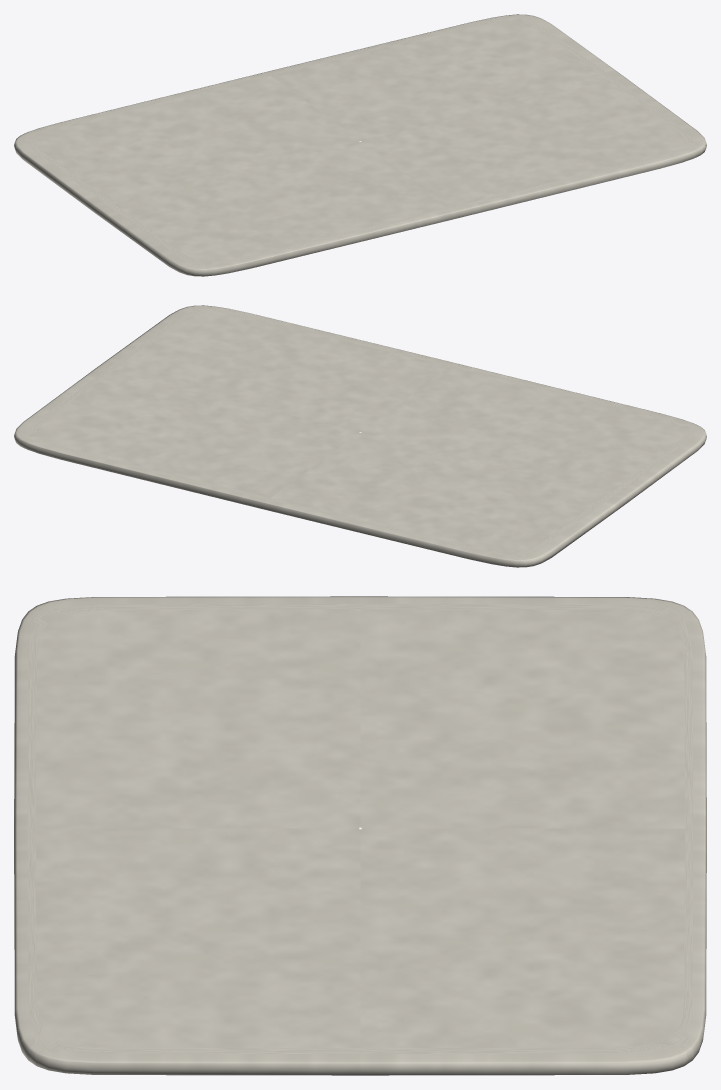
3 renders of one model, top to bottom at view 1: azimuth 30°, elevation 25°; view 2: azimuth 150°, elevation 25°; view 3: azimuth 270°, elevation 25°, orthographic. The views are drawn at different scales.
Parts seen in each view (by area): view 1: Bath mat; view 2: Bath mat; view 3: Bath mat.
Boxes of the visible parts, <box> form: Bath mat: <box>14,14,706,276</box>; Bath mat: <box>14,305,706,567</box>; Bath mat: <box>14,596,706,1075</box>.
Size of the model in its own units: 0.8 by 0.012 by 0.5.
Materials: 1 (1 with a texture image).
